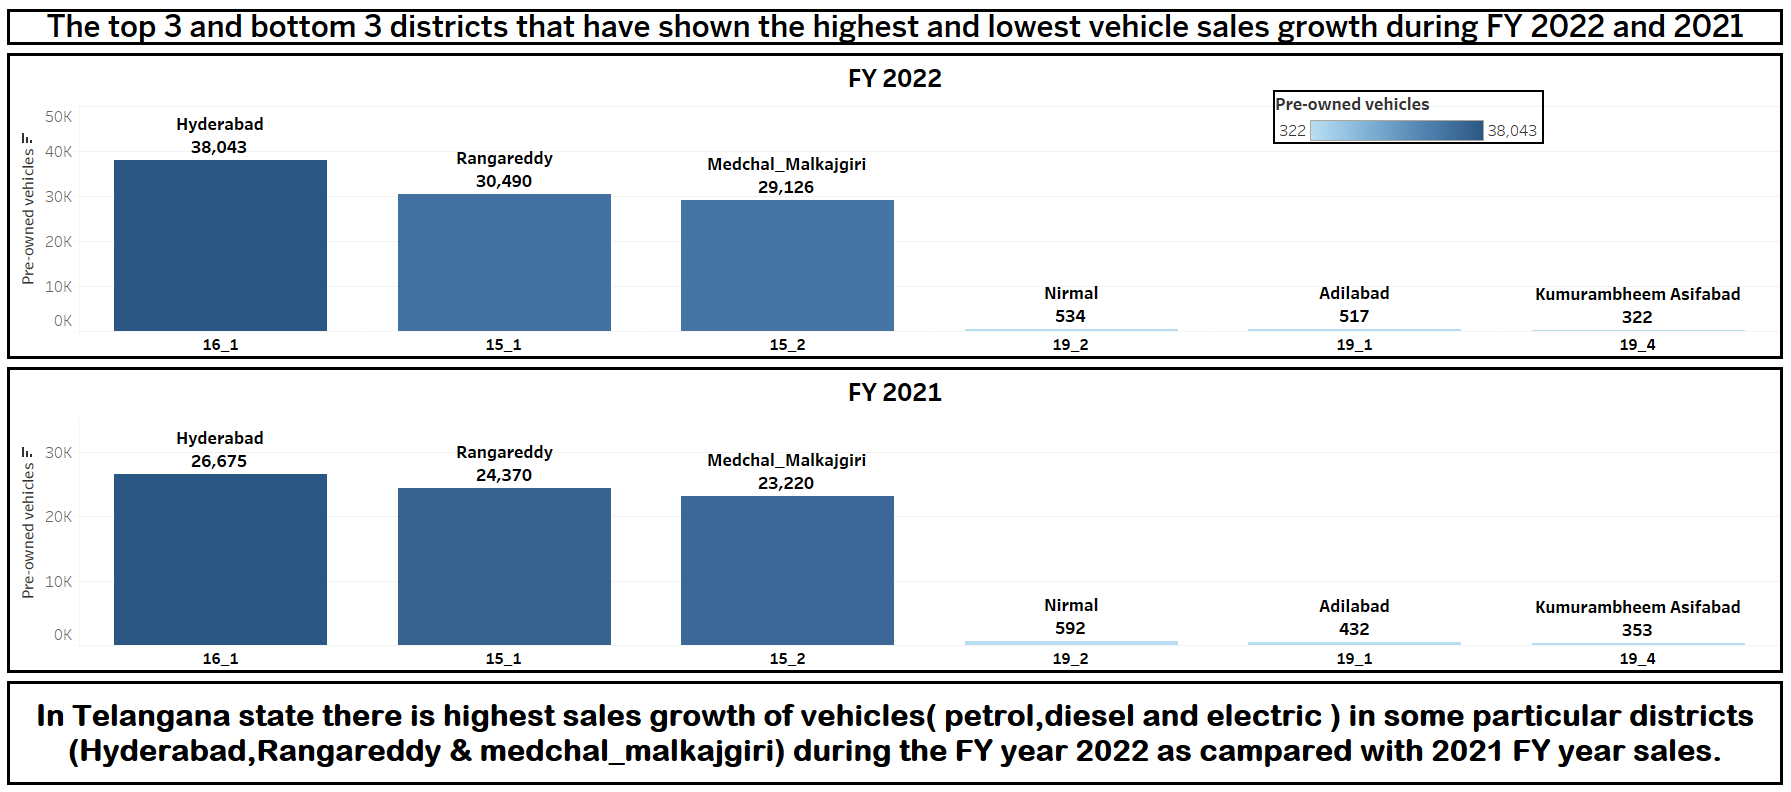

Layout of this report page (visuals, bound fields, positions):
{"tool":"tableau","page":{"name":"Dashboard 9","canvas":[1800,800],"ordinal":11},"visuals":[{"type":"title","box":[8,8,1784,44]},{"type":"worksheet","title":"Sheet 15 (2)","mark":"Bar","rows":["Pre-owned_vehicles"],"cols":["dist_code"],"box":[8,52,1784,313.9]},{"type":"legend","title":"Sheet 15 (2)","param":"[federated.0o7fg4m1dvu29t17ewmwn1jh5kk7].[sum:Pre-owned_vehicles:qk]","box":[1278,93,271,54]},{"type":"worksheet","title":"Sheet 15 (4)","mark":"Bar","rows":["Pre-owned_vehicles"],"cols":["dist_code"],"box":[8,365.9,1784,314.1]},{"type":"text","box":[8,680,1784,112]}]}

Visuals, with their boxes in screenshot pixels (x1, y1, x2, y2), scaled from the page's 1800x800 canvas onto the 1791x792 screenshot:
title: <region>8, 8, 1783, 51</region>
"Sheet 15 (2)" worksheet (Bar marks): <region>8, 51, 1783, 362</region>
"Sheet 15 (2)" legend: <region>1272, 92, 1541, 146</region>
"Sheet 15 (4)" worksheet (Bar marks): <region>8, 362, 1783, 673</region>
text: <region>8, 673, 1783, 784</region>
